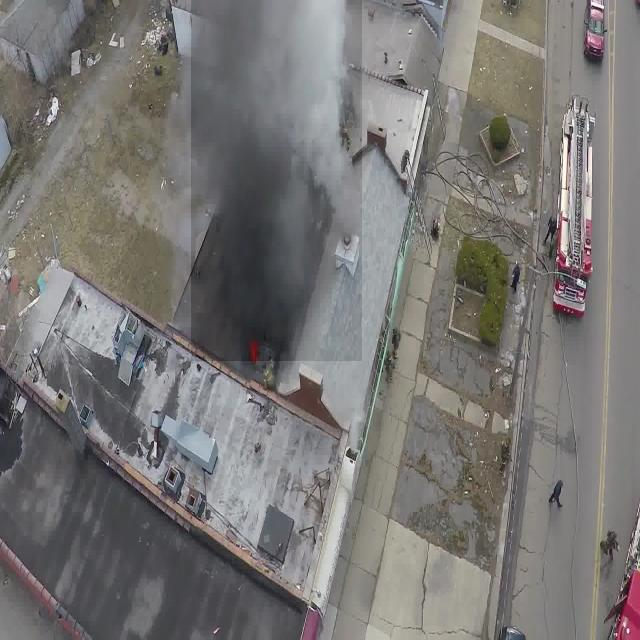Smoke: (191, 0, 362, 361)
